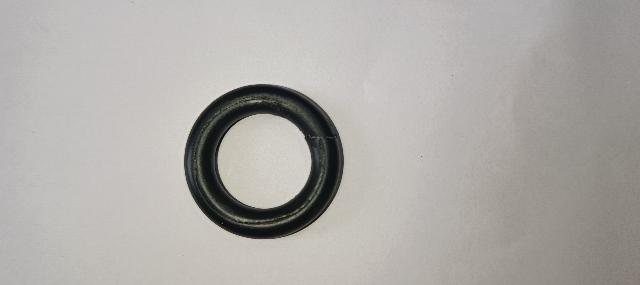crack: (299, 128, 347, 147)
scratch: (192, 92, 326, 227)
